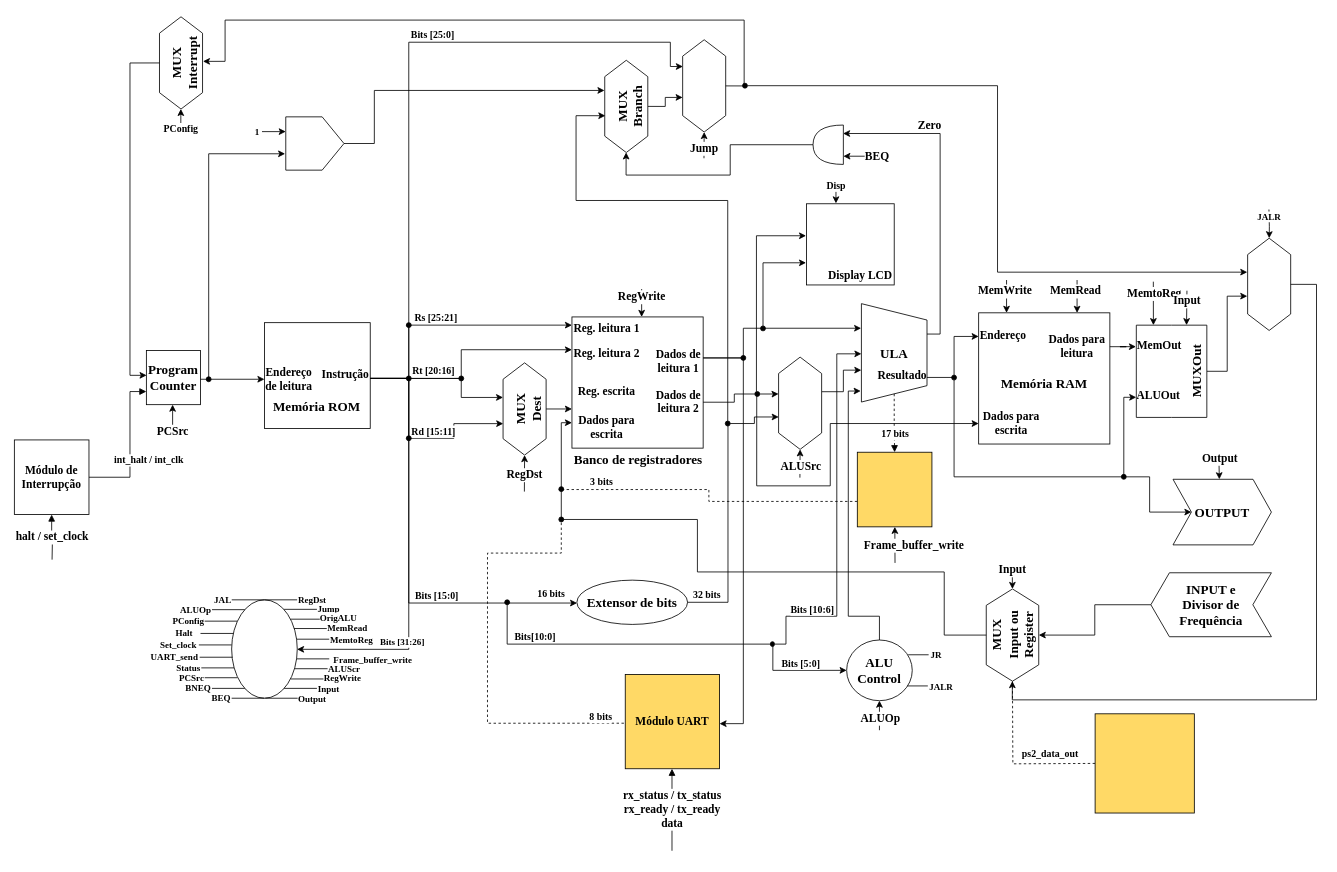
Image size: 1337x872. Some labels were removed from this diagram. The shapes that lost their labels are listed below. From the top down, each one's centre as x and y in pixels, then its label:
At (704,85): "MUX Jump".
At (314,143): "Somador".
At (1269,283): "MUX JALR".
At (800,402): "MUX ULA".
At (894,489): "Módulo VGA".
At (264,648): "Unidade de Controle".
At (1144,763): "Módulo do PS2 do Teclado".
